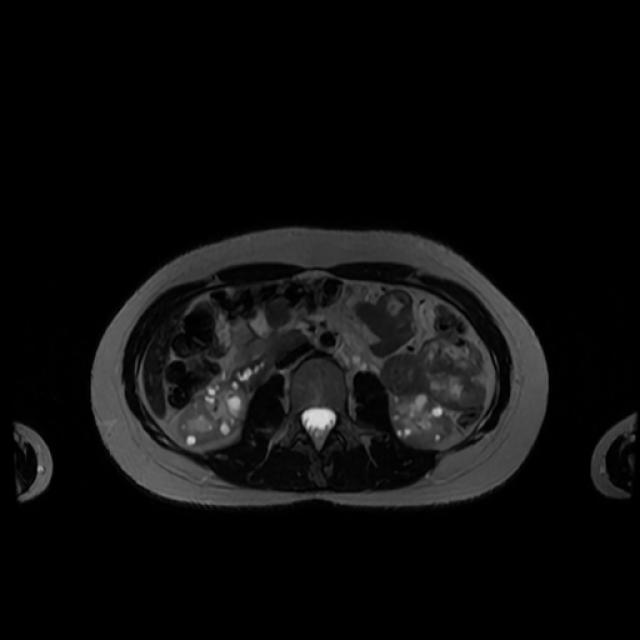sag: (176, 378, 248, 450)
sol: (389, 393, 456, 448)
